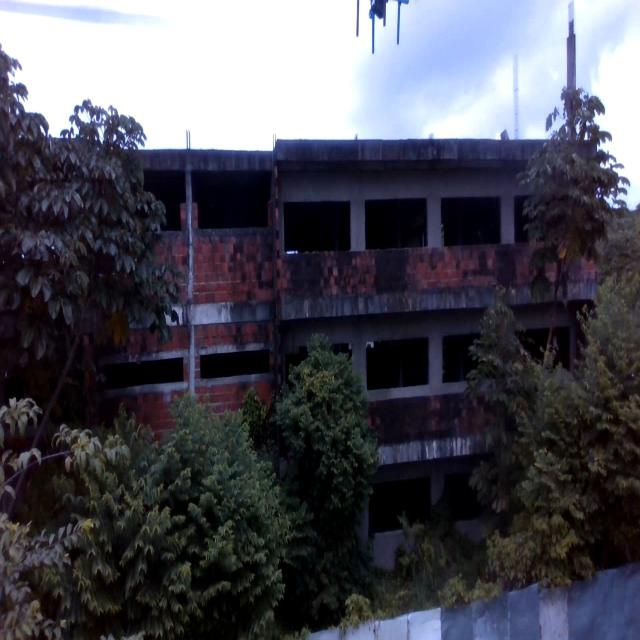-uav-: (348, 0, 413, 64)
